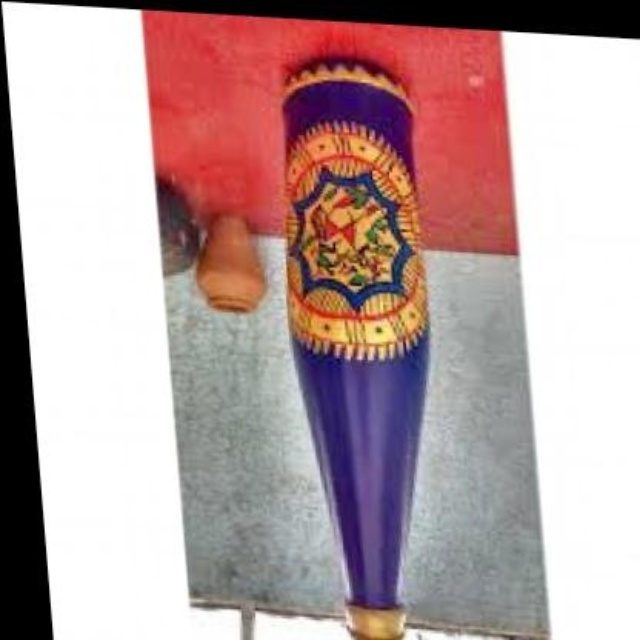trash: (283, 60, 428, 638)
